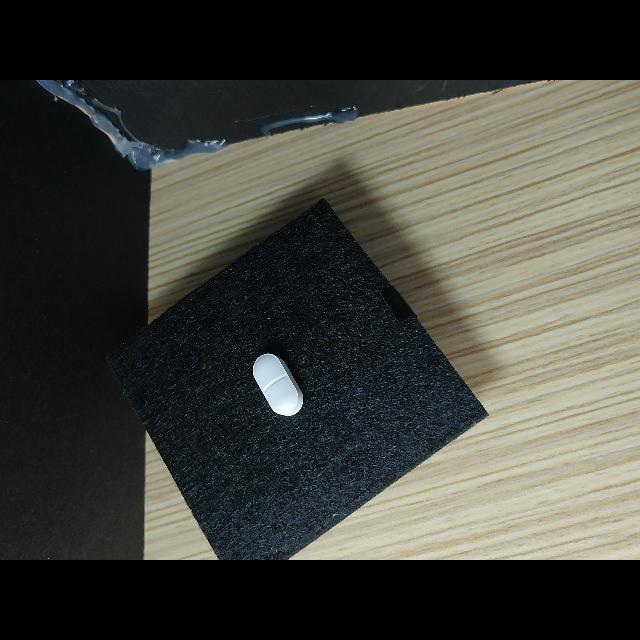Intact Pill: (253, 353, 303, 416)
